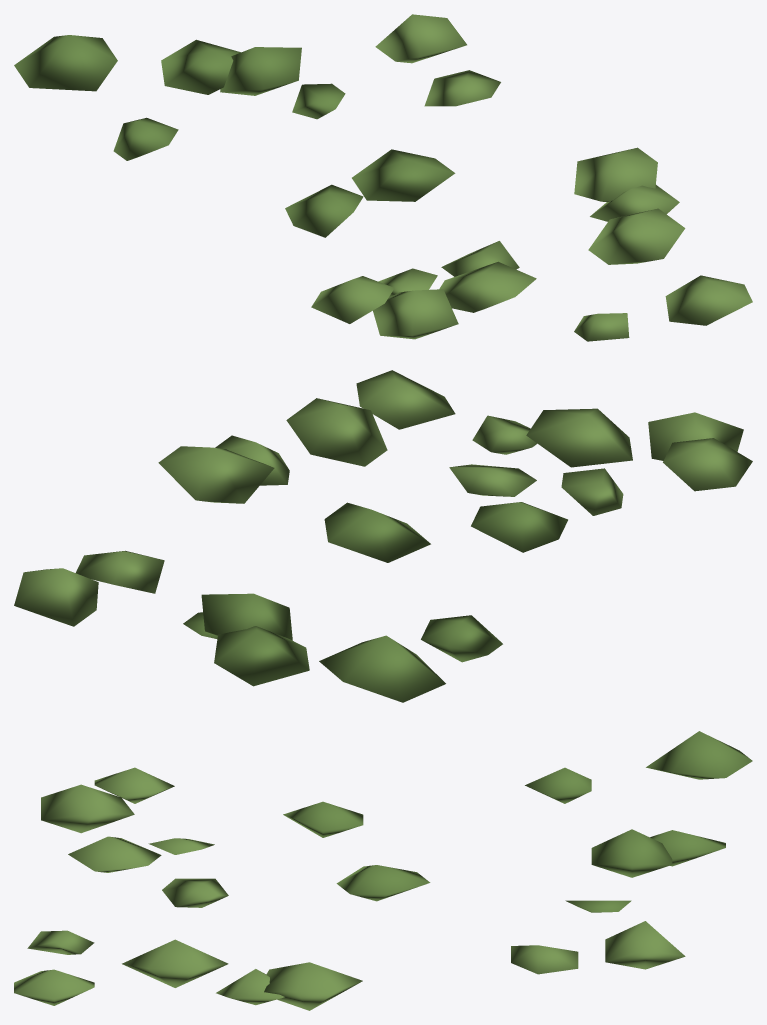
The model's file is canopy-2--1--8.glb.
3 views of the same model, one above another, from view 1: azimuth 30°, elevation 25°; view 2: azimuth 150°, elevation 25°; view 3: azimuth 270°, elevation 25° (orthographic). The views are drawn at different scales.
Size of the model in its own units: 92.5 by 25 by 138.
1 material, 1 textured.
